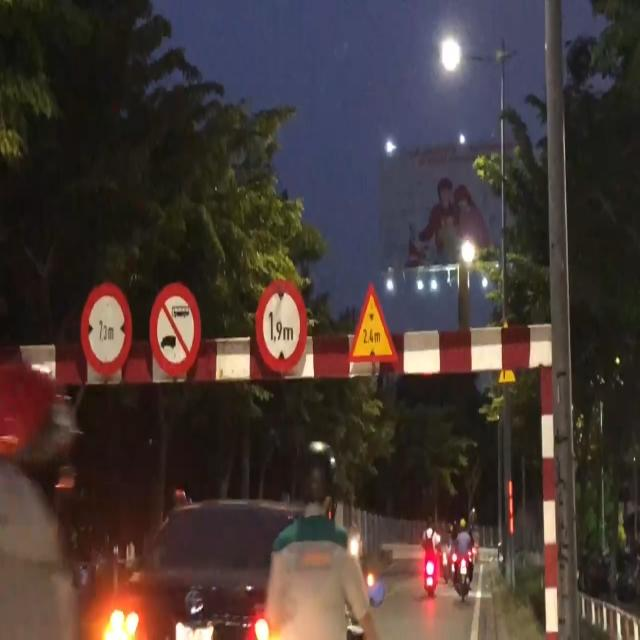Bien bao cam xe oto khach va xe oto tai: (145, 278, 208, 384)
Bien bao chieu cao tinh khong thuc te: (348, 279, 403, 368)
Bien bao han che chieu cao: (250, 275, 310, 379)
